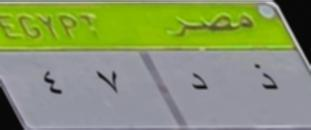4: (36, 67, 67, 106)
7: (92, 62, 128, 95)
daal: (188, 66, 211, 102)
zaal: (250, 59, 277, 98)
